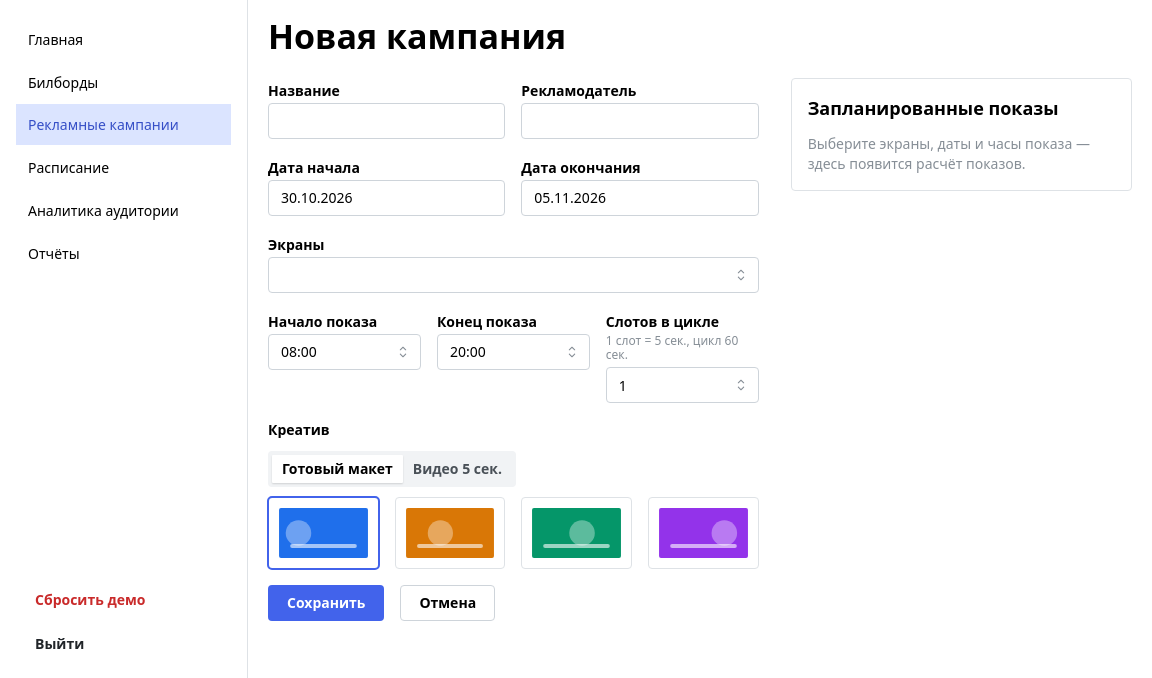
Test: [f06-campaign-create] field error names the form field
Click the button "Сохранить": {"x": 326, "y": 603} 268,585 -> 384,621
(page scrolled)
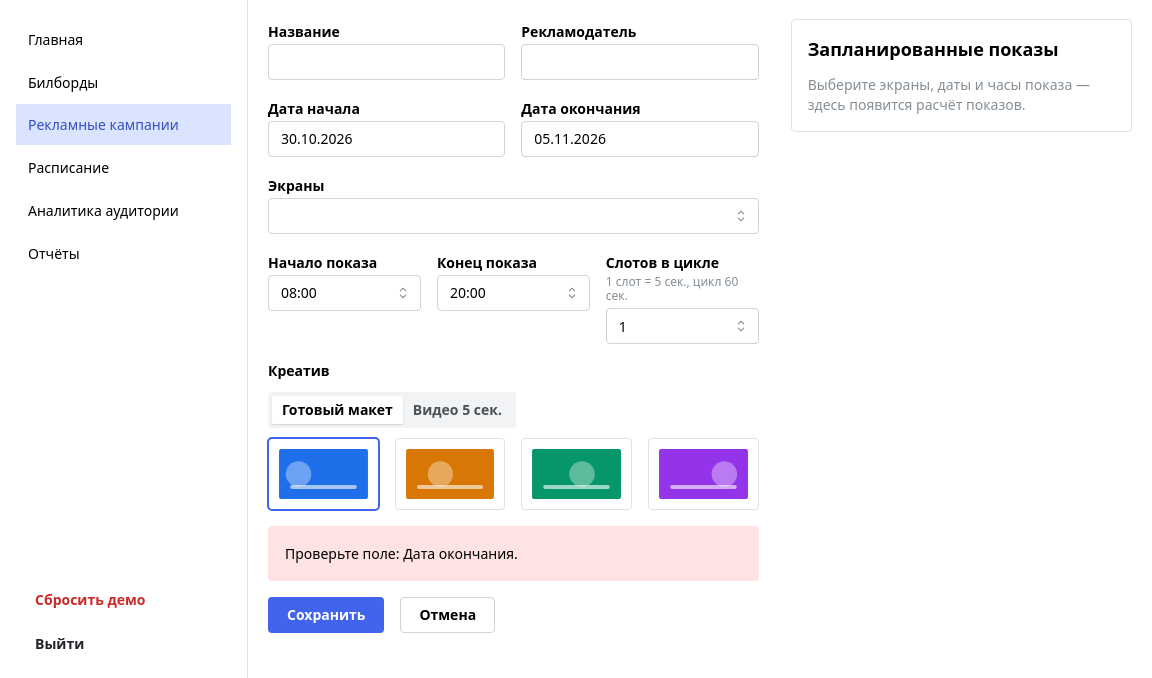
expect the text "Проверьте поле: Дата окончания." is shown: met, box 285,544 -> 518,563
